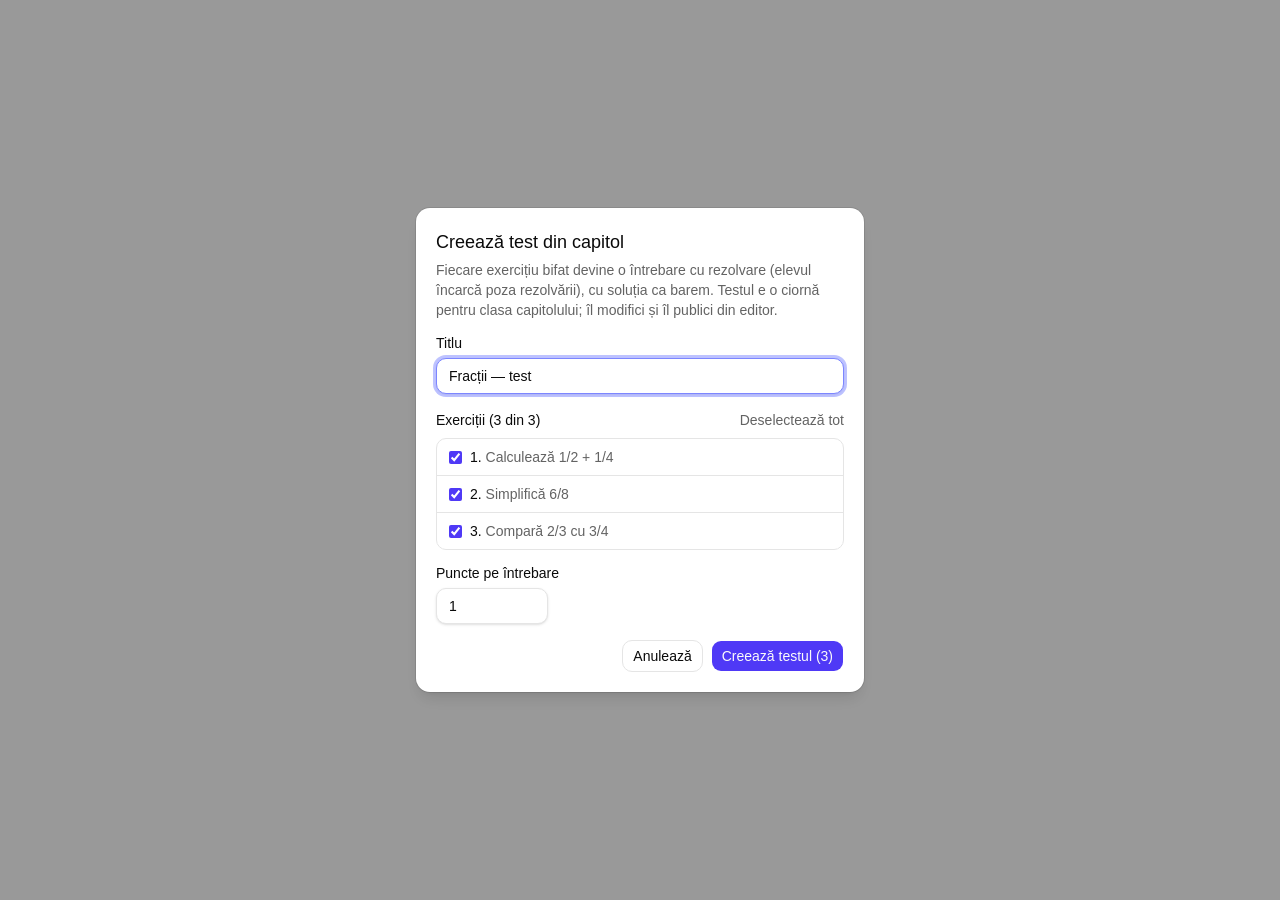
Test: ChapterQuizDialog › shows the server's reason when creating fails
The image size is (1280, 900).
Click the button "Creează testul (3)": (777,656) x1=711 y1=640 x2=844 y2=672
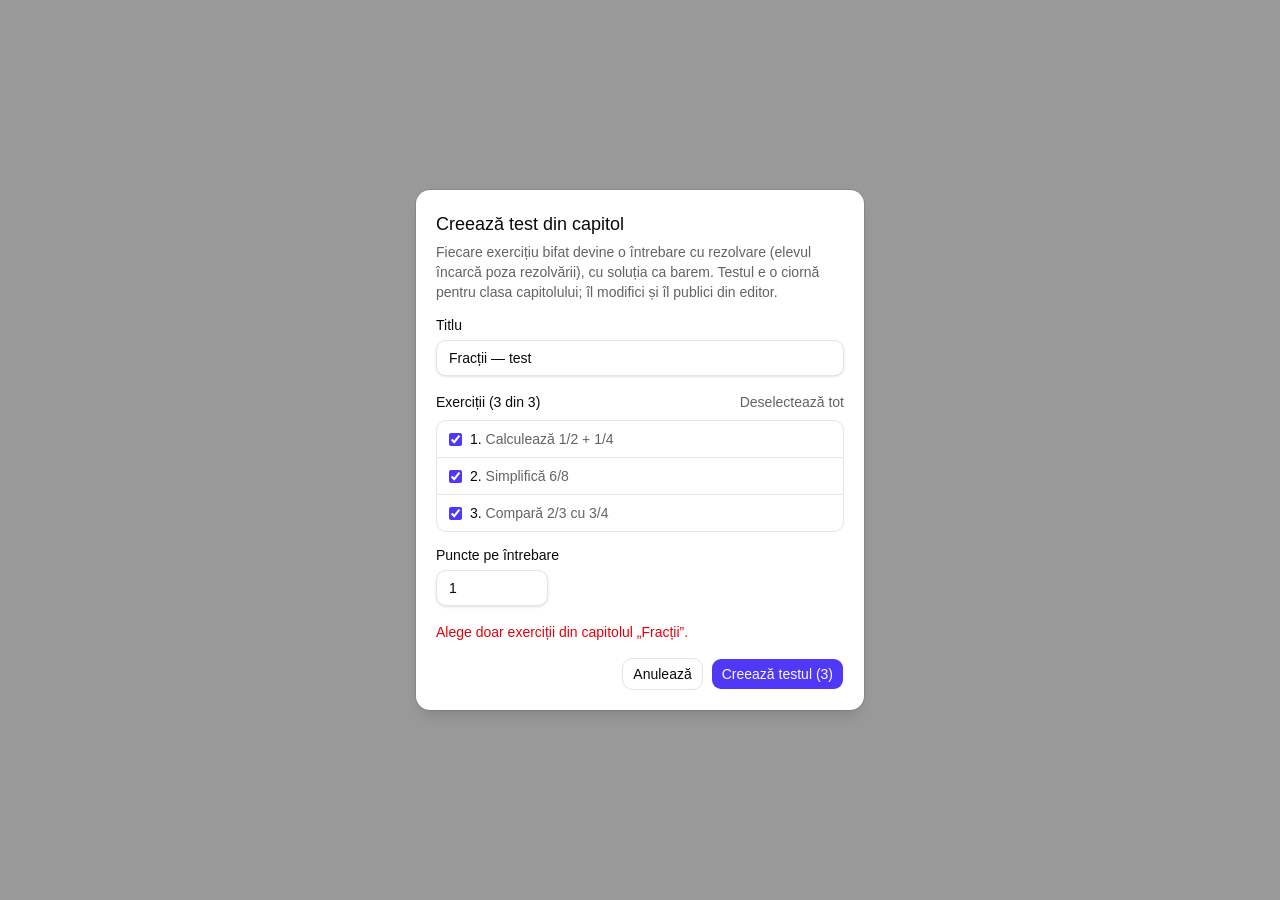
expect the message shows "Alege doar exerciții din capitolul": met, box x1=436 y1=624 x2=688 y2=640
